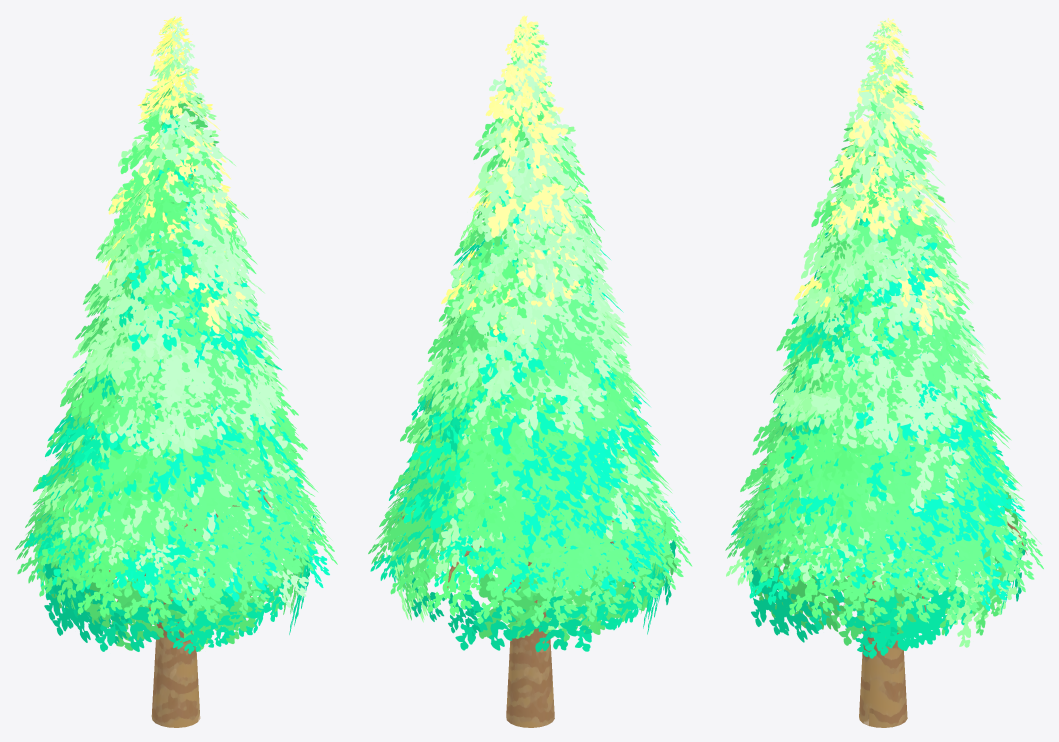
The model's file is Pinetree.glb.
3 renders of one model, left to right at view 1: azimuth 30°, elevation 25°; view 2: azimuth 150°, elevation 25°; view 3: azimuth 270°, elevation 25°, orthographic.
Parts seen in each view (by area): view 1: leafs_summer, trunk_summer; view 2: leafs_summer, trunk_summer; view 3: leafs_summer, trunk_summer.
Part boxes in pixels (bbox=[...]): leafs_summer: bbox=[15, 16, 337, 654]; trunk_summer: bbox=[55, 437, 278, 727]; leafs_summer: bbox=[368, 15, 692, 651]; trunk_summer: bbox=[401, 430, 635, 727]; leafs_summer: bbox=[725, 18, 1043, 658]; trunk_summer: bbox=[761, 430, 1027, 727].
Size of the model in its own units: 12.55 by 29.56 by 12.41.
Materials: 5 (5 with a texture image).
